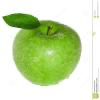Apple leaf: (0, 11, 43, 31)
